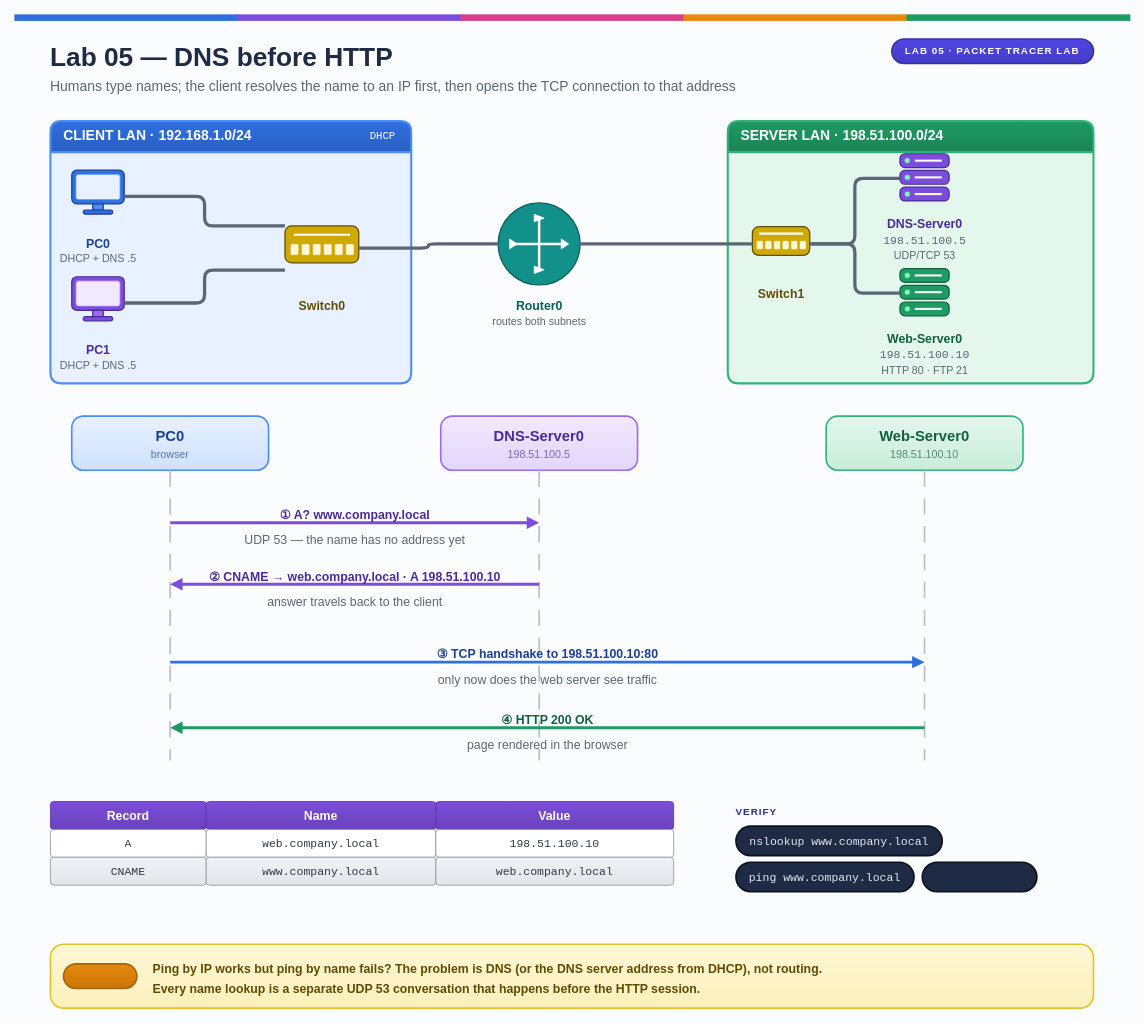
Image size: 1144x1023. Some labels were removed from this diagram. The centre of each missing label's shape, as x and y in pixels:
ipconfig /all: the point at 979,876
OBSERVE: the point at 99,976
